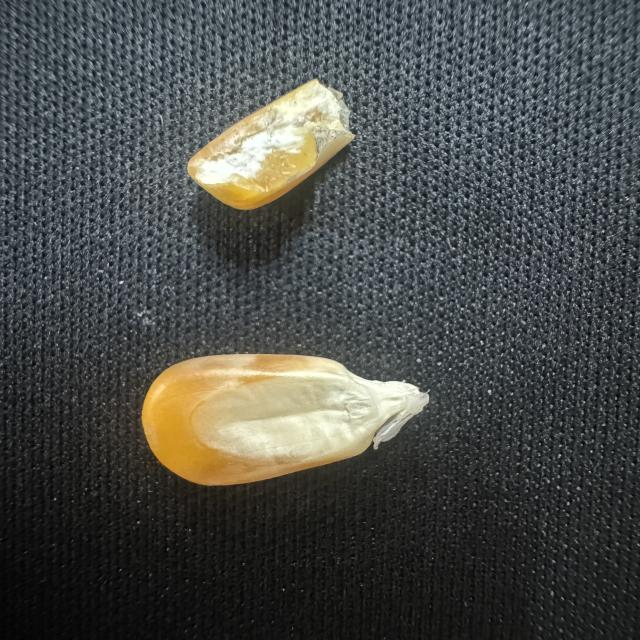Bad-Seed: (180, 76, 360, 213)
Good-Seed: (134, 350, 440, 491)
